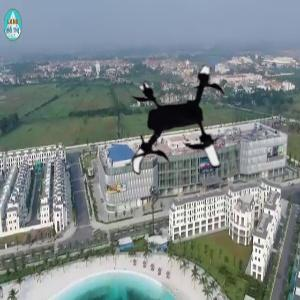drone: (115, 63, 248, 196)
